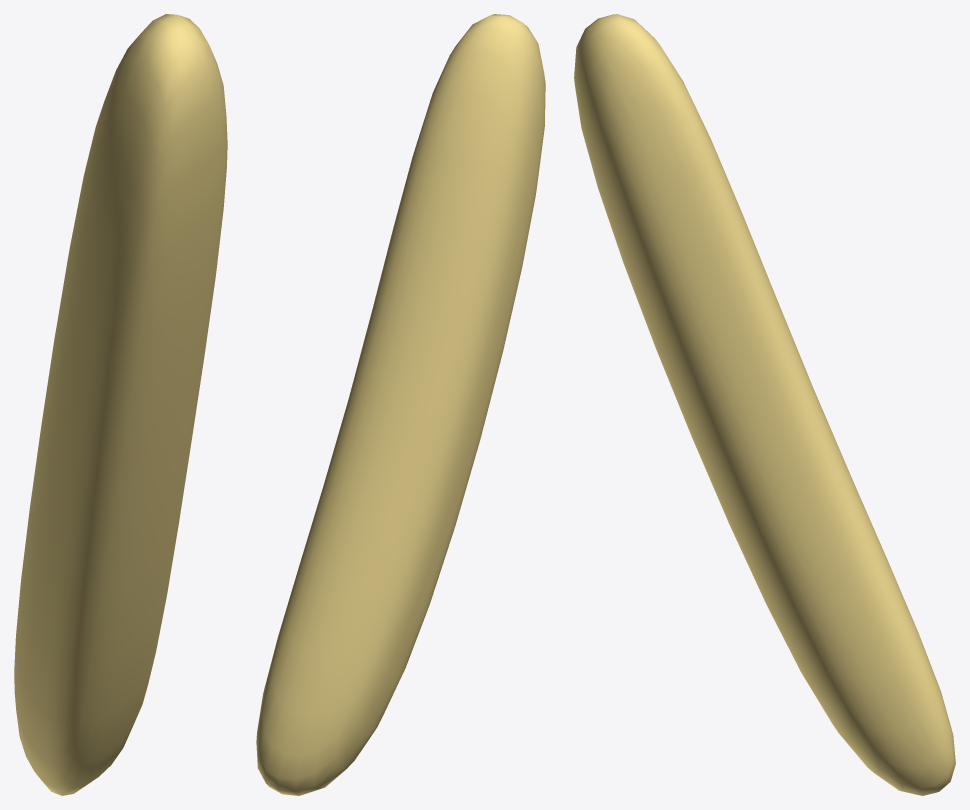
3 renders of one model, left to right at view 1: azimuth 30°, elevation 25°; view 2: azimuth 150°, elevation 25°; view 3: azimuth 270°, elevation 25°, orthographic. The views are drawn at different scales.
Parts seen in each view (by area): view 1: ZA_a727e2d6c0589457; view 2: ZA_a727e2d6c0589457; view 3: ZA_a727e2d6c0589457.
Boxes of the visible parts, bbox=[...] form: ZA_a727e2d6c0589457: bbox=[14, 14, 227, 795]; ZA_a727e2d6c0589457: bbox=[256, 14, 545, 795]; ZA_a727e2d6c0589457: bbox=[574, 14, 955, 795].
Bounding box in the file's own units: 0.00146 × 0.00686 × 0.00319.
